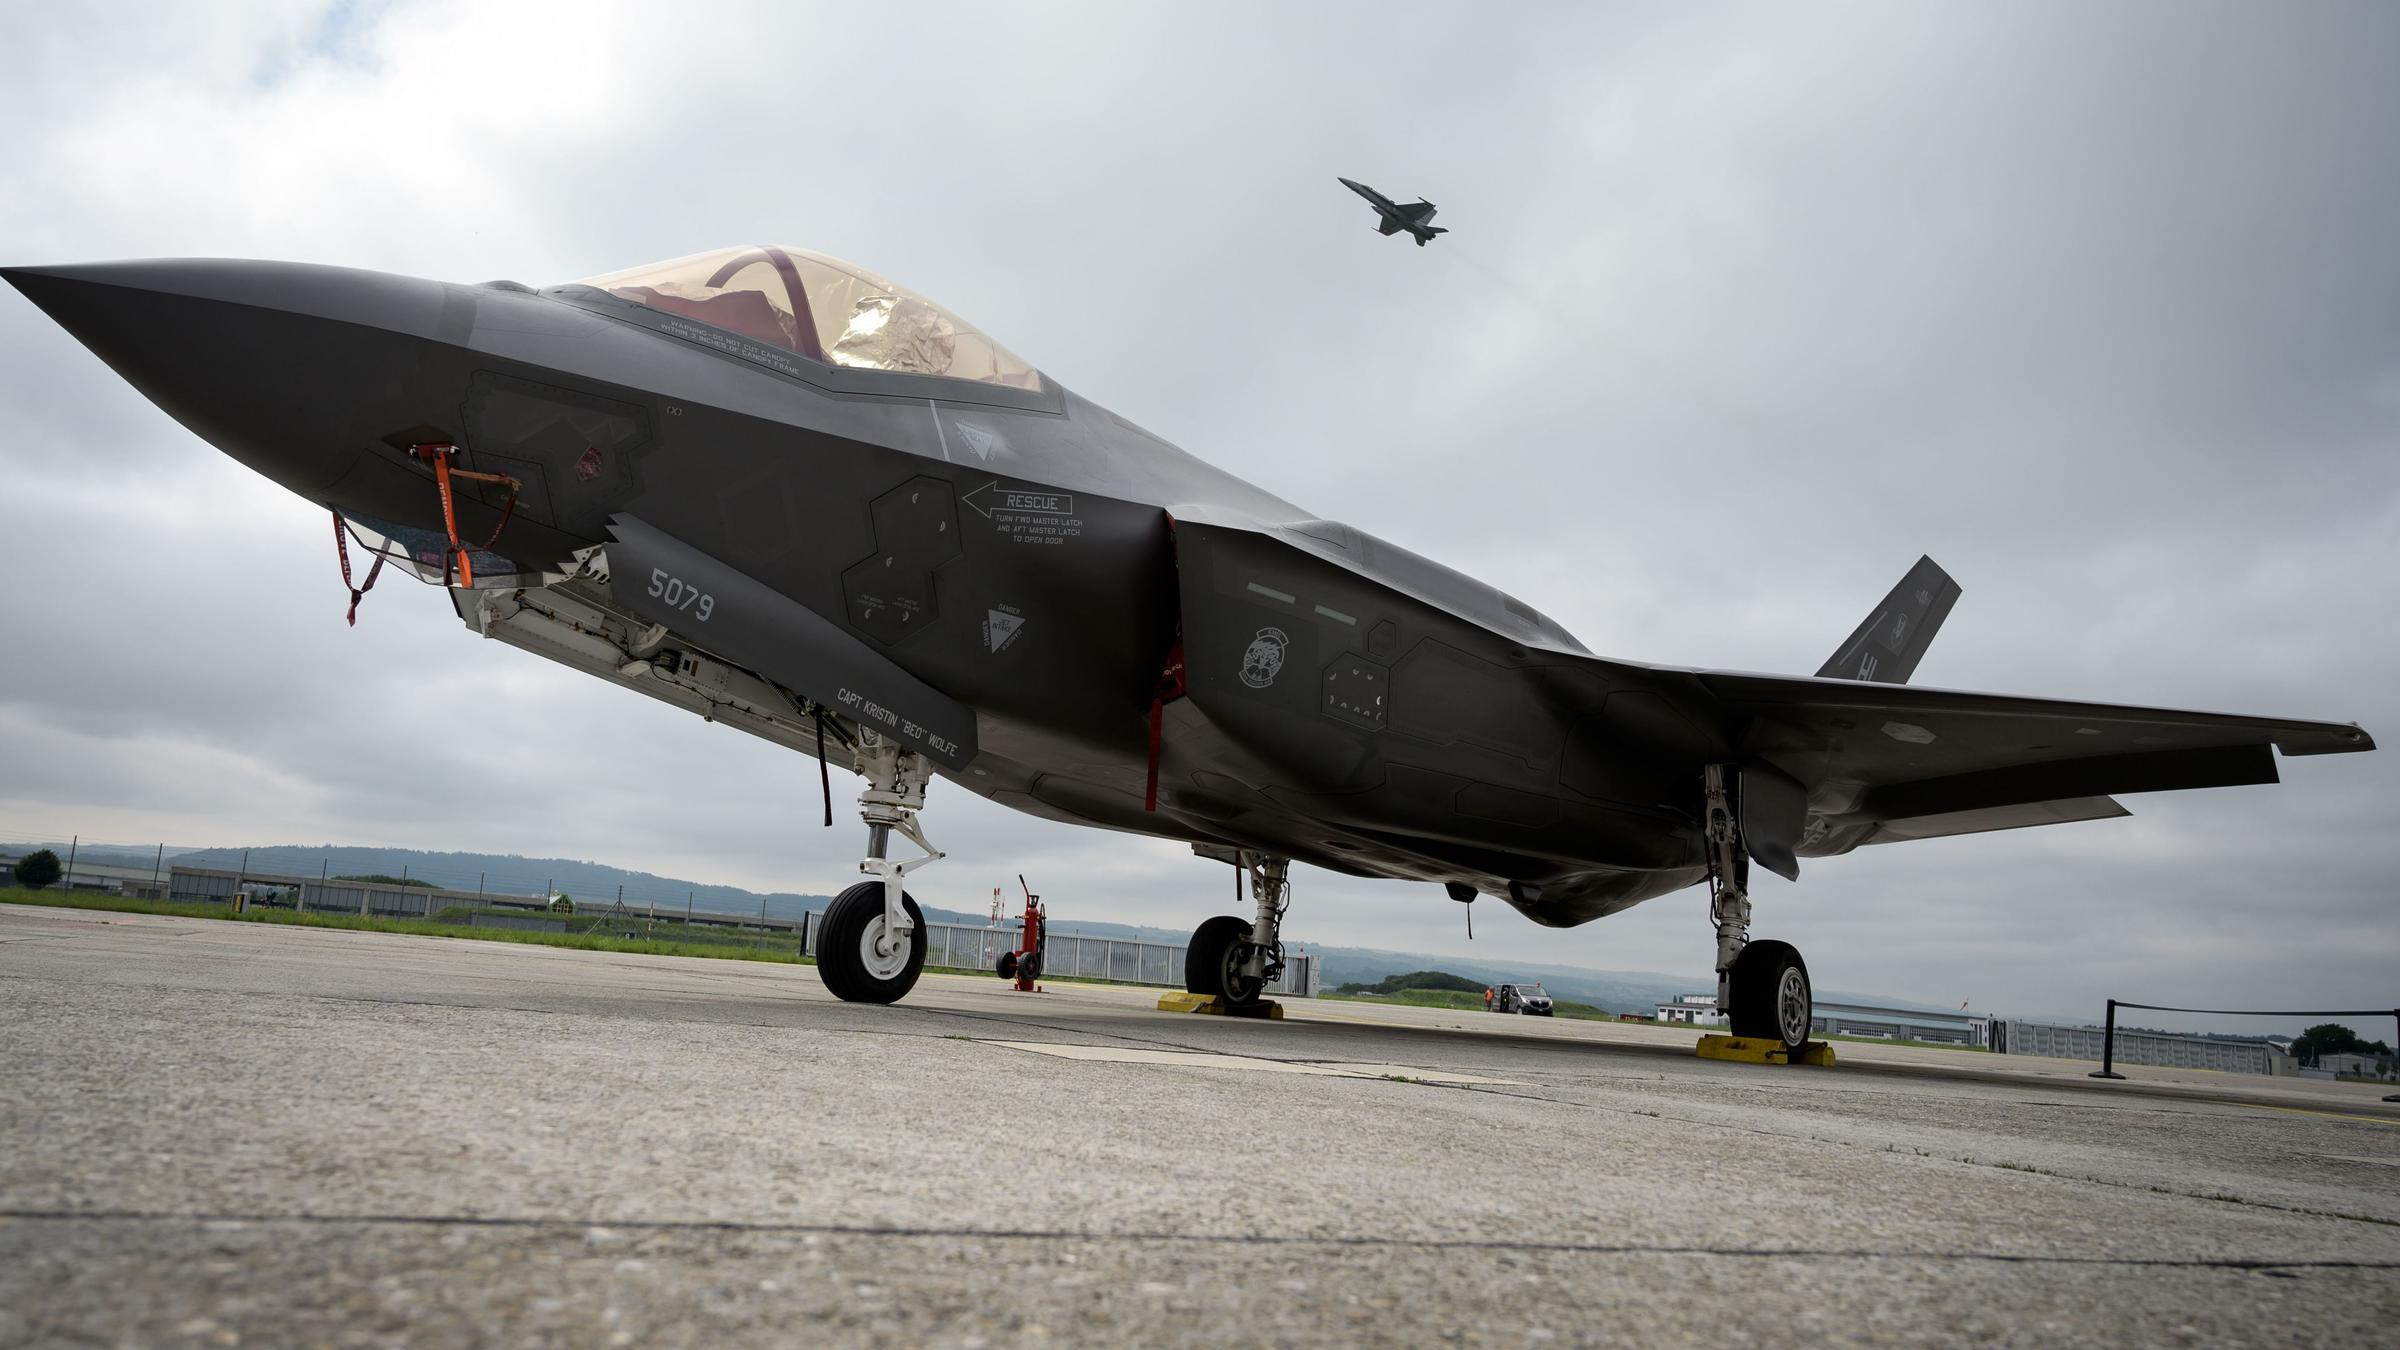F-35 Lightning: (15, 155, 2392, 1095)
